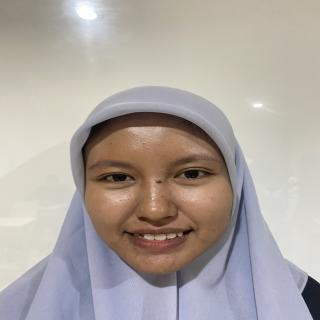Senang: (82, 110, 234, 284)
